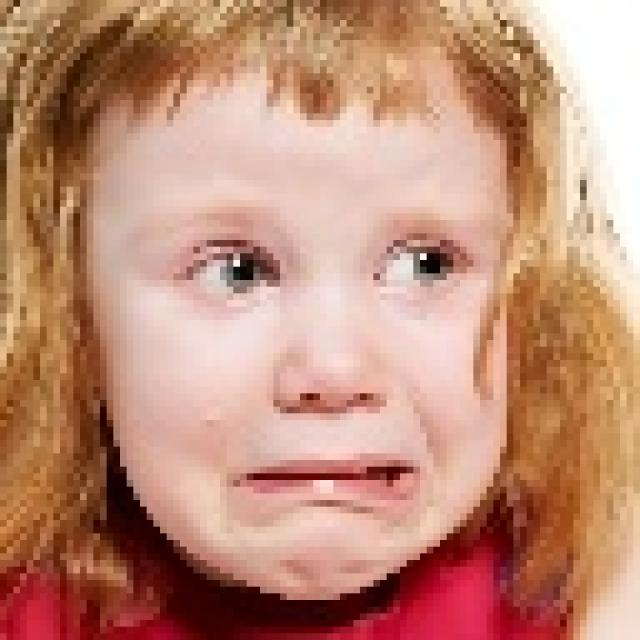sad: (108, 99, 542, 605)
